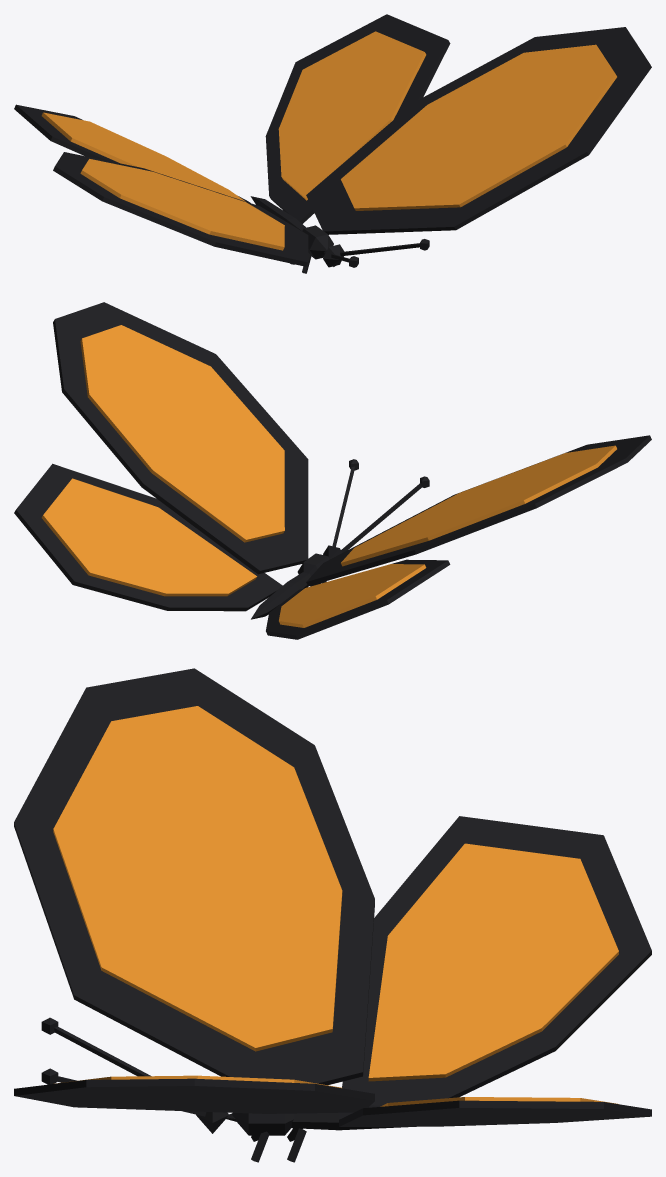
File: GN_Butterfly_Monarch_01.glb
3 renders of one model, top to bottom at view 1: azimuth 30°, elevation 25°; view 2: azimuth 150°, elevation 25°; view 3: azimuth 270°, elevation 25°, orthographic. The views are drawn at different scales.
Visible parts, largest first — view 1: GN_Butterfly_Monarch_01; view 2: GN_Butterfly_Monarch_01; view 3: GN_Butterfly_Monarch_01.
Boxes of the visible parts, x1,y1,x2,y2 form: GN_Butterfly_Monarch_01: (14, 14, 651, 273); GN_Butterfly_Monarch_01: (14, 302, 651, 639); GN_Butterfly_Monarch_01: (14, 668, 651, 1162).
Bounding box in the file's own units: 0.0812 × 0.0255 × 0.053.
Materials: 1 (1 with a texture image).
